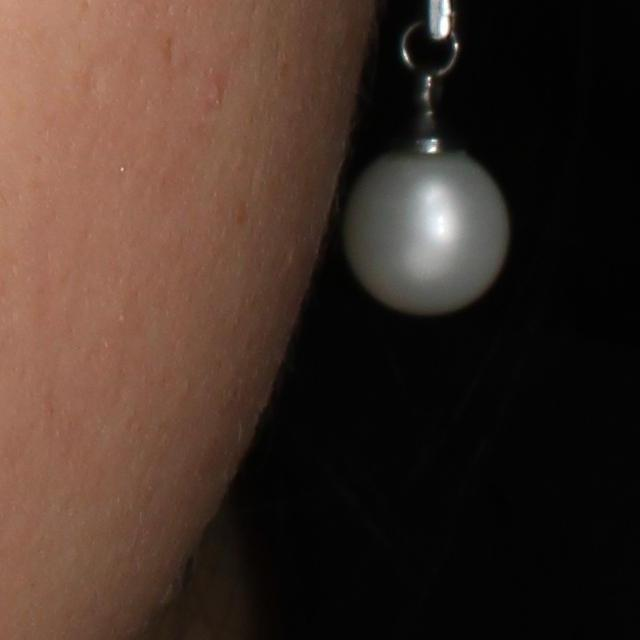papule: (202, 76, 225, 109)
